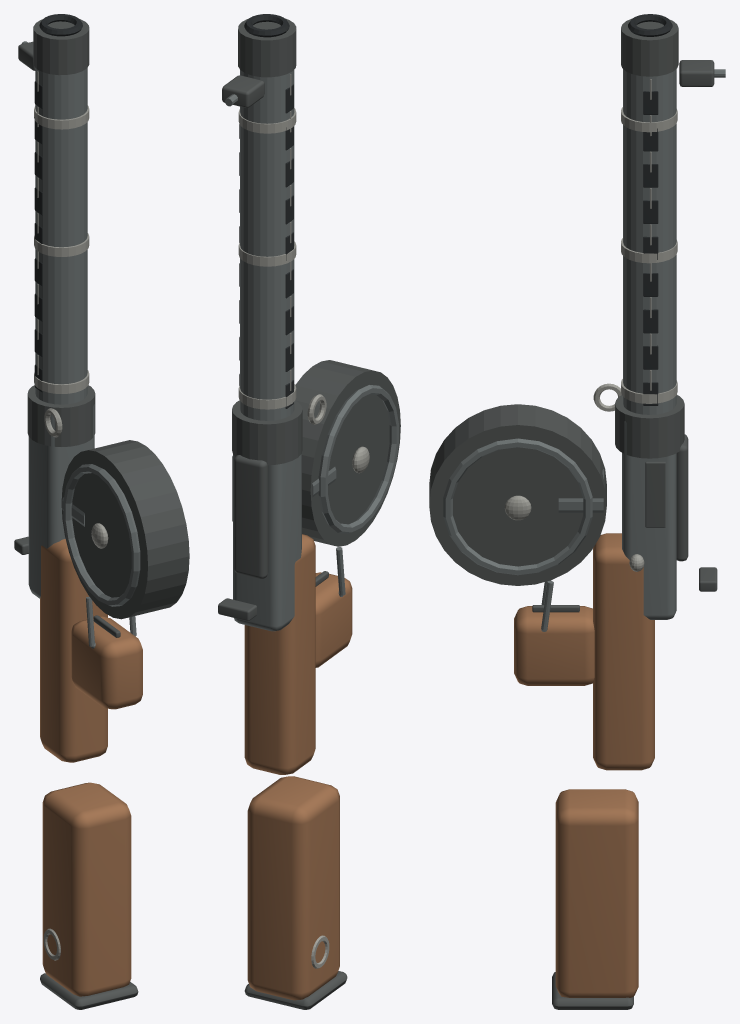
File: wave22_ppsh.glb
3 views of the same model, side by side, from view 1: azimuth 30°, elevation 25°; view 2: azimuth 150°, elevation 25°; view 3: azimuth 270°, elevation 25° (orthographic). The views are drawn at different scales.
Parts seen in each view (by area): view 1: PPSh full walnut shoulder stock, PPSh large 71-round drum, PPSh blackened ventilated barrel shroud, PPSh walnut forend taper, PPSh carved semi pistol wood grip, PPSh solid stamped upper receiver, PPSh drum ring side -1, PPSh rear barrel collar, PPSh muzzle slant comp, PPSh rounded dark wood butt end, PPSh muzzle opening, PPSh riveted steel shroud collar 1.34 (+2 smaller); view 2: PPSh full walnut shoulder stock, PPSh blackened ventilated barrel shroud, PPSh walnut forend taper, PPSh large 71-round drum, PPSh solid stamped upper receiver, PPSh bolt housing, PPSh drum ring side -1, PPSh rear barrel collar, PPSh carved semi pistol wood grip, PPSh muzzle slant comp, PPSh rounded dark wood butt end, PPSh high front sight ears (+5 smaller); view 3: PPSh large 71-round drum, PPSh full walnut shoulder stock, PPSh blackened ventilated barrel shroud, PPSh walnut forend taper, PPSh solid stamped upper receiver, PPSh carved semi pistol wood grip, PPSh drum ring side 1, PPSh rear barrel collar, PPSh muzzle slant comp, PPSh bolt housing, PPSh machined ejection port, PPSh rounded dark wood butt end (+2 smaller).
Boxes of the visible parts, x1=… form: PPSh full walnut shoulder stock: x1=42, y1=782, x2=131, y2=996; PPSh large 71-round drum: x1=61, y1=440, x2=189, y2=619; PPSh blackened ventilated barrel shroud: x1=35, y1=68, x2=87, y2=404; PPSh walnut forend taper: x1=40, y1=539, x2=107, y2=762; PPSh carved semi pistol wood grip: x1=71, y1=616, x2=142, y2=709; PPSh solid stamped upper receiver: x1=28, y1=404, x2=94, y2=598; PPSh drum ring side -1: x1=63, y1=464, x2=140, y2=606; PPSh rear barrel collar: x1=27, y1=385, x2=95, y2=446; PPSh muzzle slant comp: x1=33, y1=19, x2=89, y2=75; PPSh rounded dark wood butt end: x1=40, y1=973, x2=138, y2=1009; PPSh muzzle opening: x1=39, y1=14, x2=82, y2=36; PPSh riveted steel shroud collar 1.34: x1=34, y1=105, x2=89, y2=129; PPSh full walnut shoulder stock: x1=247, y1=776, x2=339, y2=1000; PPSh blackened ventilated barrel shroud: x1=240, y1=70, x2=294, y2=420; PPSh walnut forend taper: x1=244, y1=534, x2=315, y2=774; PPSh large 71-round drum: x1=295, y1=360, x2=400, y2=546; PPSh solid stamped upper receiver: x1=233, y1=453, x2=301, y2=631; PPSh bolt housing: x1=234, y1=455, x2=268, y2=578; PPSh drum ring side -1: x1=318, y1=385, x2=398, y2=533; PPSh rear barrel collar: x1=232, y1=400, x2=302, y2=465; PPSh carved semi pistol wood grip: x1=315, y1=572, x2=352, y2=667; PPSh muzzle slant comp: x1=238, y1=18, x2=296, y2=77; PPSh rounded dark wood butt end: x1=244, y1=971, x2=347, y2=1009; PPSh high front sight ears: x1=222, y1=75, x2=264, y2=107; PPSh large 71-round drum: x1=429, y1=404, x2=606, y2=585; PPSh full walnut shoulder stock: x1=555, y1=789, x2=638, y2=997; PPSh blackened ventilated barrel shroud: x1=623, y1=69, x2=676, y2=414; PPSh walnut forend taper: x1=593, y1=533, x2=654, y2=770; PPSh solid stamped upper receiver: x1=622, y1=421, x2=676, y2=619; PPSh carved semi pistol wood grip: x1=514, y1=606, x2=594, y2=685; PPSh drum ring side 1: x1=443, y1=438, x2=592, y2=575; PPSh rear barrel collar: x1=615, y1=395, x2=684, y2=458; PPSh muzzle slant comp: x1=621, y1=18, x2=678, y2=76; PPSh bolt housing: x1=676, y1=434, x2=688, y2=561; PPSh machined ejection port: x1=645, y1=461, x2=665, y2=527; PPSh rounded dark wood butt end: x1=552, y1=972, x2=633, y2=1009.
Bounding box in the file's own units: 0.1475 × 2.01 × 0.554.
